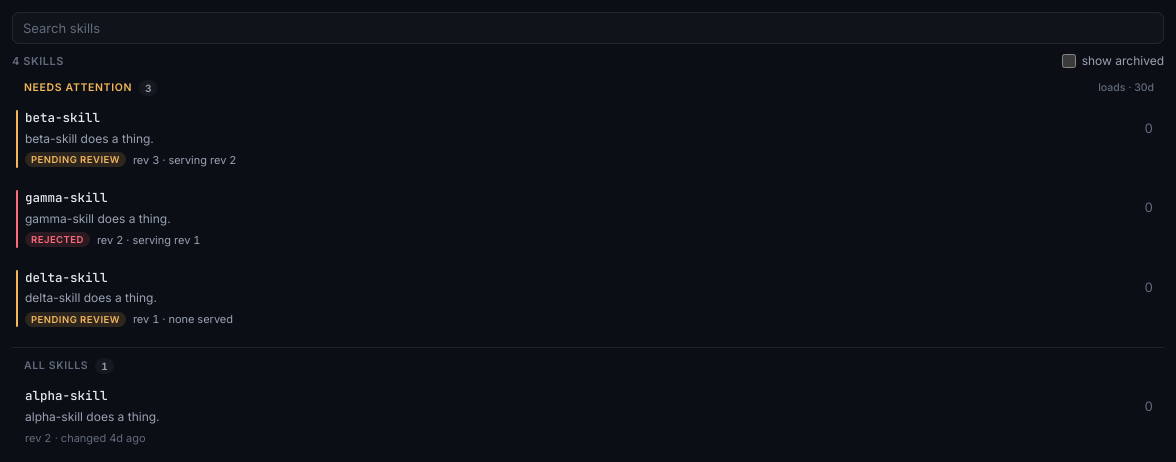
Scenario: SkillList › groups rows that need the owner first, and keeps the server's order while searching
Expected: the text "rev 1 · none served" is shown, [133, 311, 233, 327]
Expected: the text "alpha-skill" is shown, [25, 387, 108, 404]
Type "skill" into the search field labelled "Search skills" at {"x": 588, "y": 28}, box [12, 12, 1164, 44]
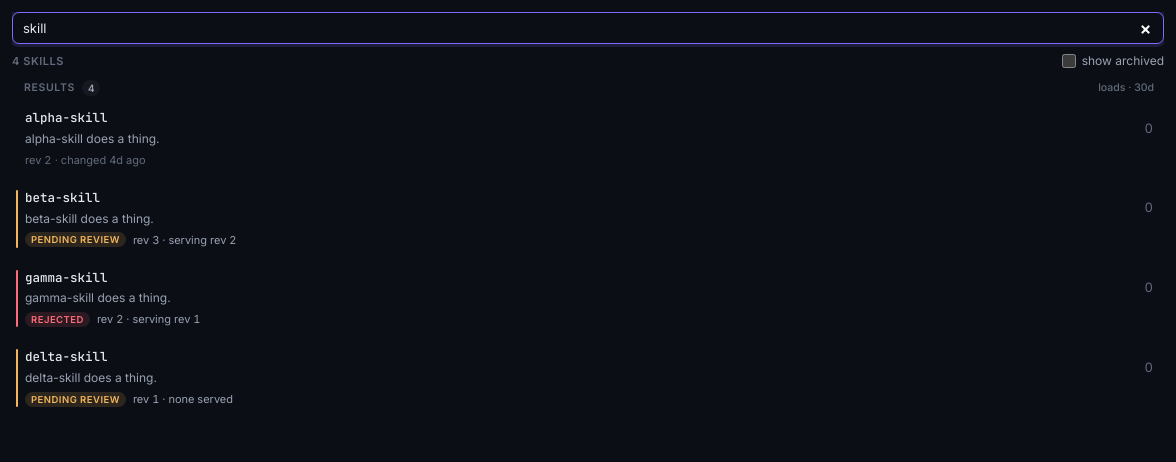
Expected: the text "Needs attention" is gone
